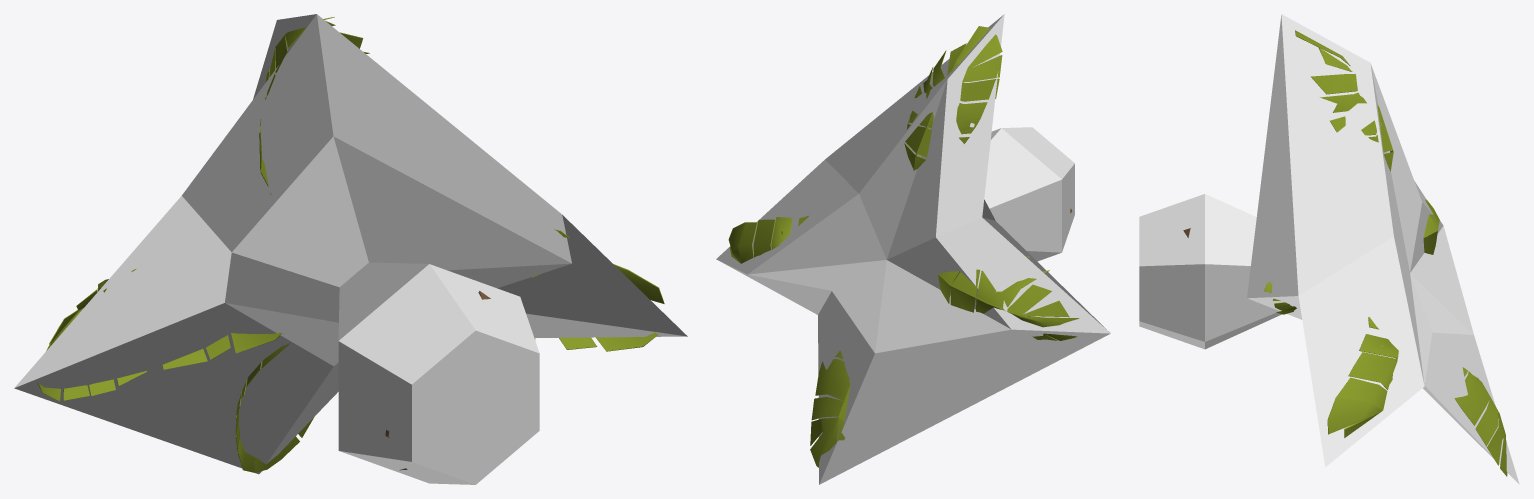
Rendered from banana_tree_hard.fbx.
3 views of the same model, side by side, from view 1: azimuth 30°, elevation 25°; view 2: azimuth 150°, elevation 25°; view 3: azimuth 270°, elevation 25° (orthographic). The views are drawn at different scales.
Parts seen in each view (by area): view 1: c_banana_tree, banana_tree; view 2: c_banana_tree, banana_tree; view 3: c_banana_tree, banana_tree.
Part boxes in pixels (x1,y1,x2,y2): c_banana_tree: (14,14,687,484); banana_tree: (37,17,664,472); c_banana_tree: (716,14,1110,484); banana_tree: (728,26,1079,467); c_banana_tree: (1139,14,1519,484); banana_tree: (1183,30,1507,476).
Size of the model in its own units: 230 by 212 by 169.
